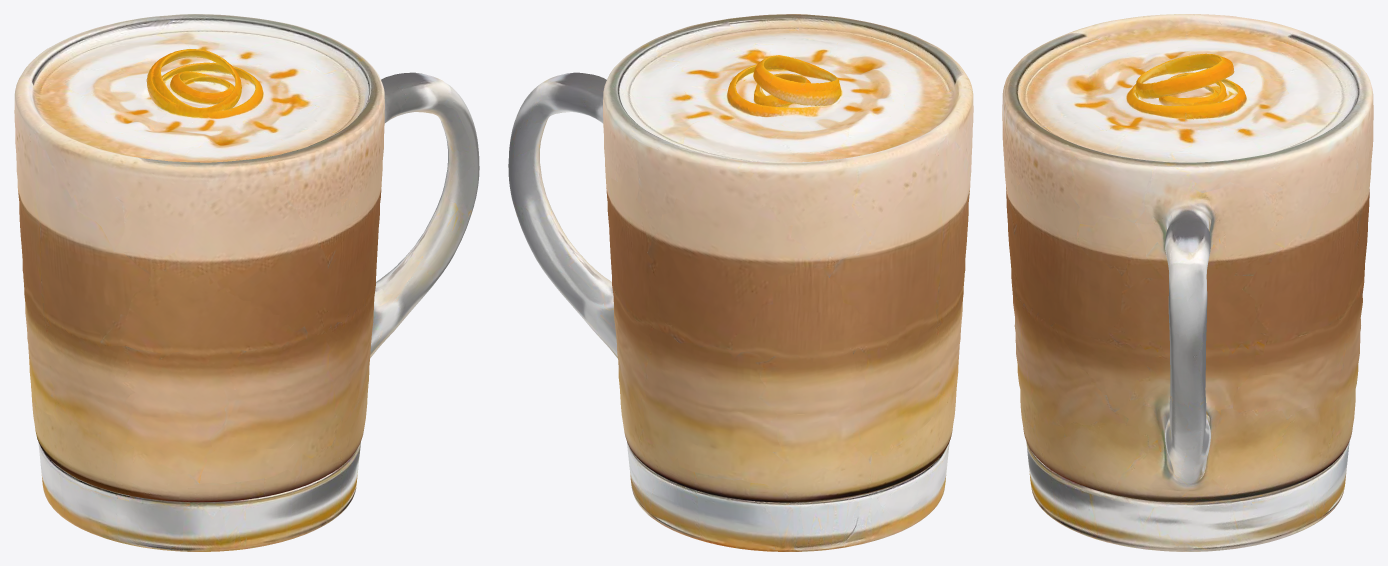
The model's file is sodium.glb.
3 views of the same model, side by side, from view 1: azimuth 30°, elevation 25°; view 2: azimuth 150°, elevation 25°; view 3: azimuth 270°, elevation 25° (orthographic).
Visible parts, largest first — view 1: Mesh_0; view 2: Mesh_0; view 3: Mesh_0.
Boxes of the visible parts, x1=… form: Mesh_0: x1=14, y1=14, x2=479, y2=551; Mesh_0: x1=508, y1=14, x2=973, y2=551; Mesh_0: x1=1002, y1=14, x2=1373, y2=551.
Bounding box in the file's own units: 1.9 × 1.81 × 1.4.
1 material, 1 textured.
